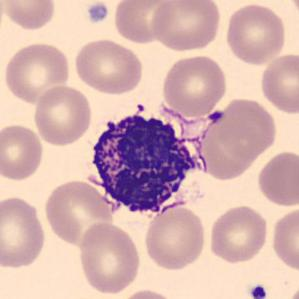Basophil: (81, 102, 210, 225)
Platelets: (86, 2, 110, 24), (248, 282, 269, 299)
RBC: (42, 177, 115, 247), (76, 220, 143, 296), (141, 203, 208, 272), (160, 52, 230, 118), (2, 40, 72, 104), (72, 36, 146, 96), (210, 95, 279, 159), (222, 1, 288, 67), (31, 83, 94, 148), (148, 0, 223, 53), (207, 203, 270, 264), (0, 194, 47, 270), (111, 0, 176, 44), (0, 122, 46, 183), (258, 51, 299, 115), (255, 148, 298, 208), (269, 205, 298, 273), (0, 0, 57, 31), (116, 287, 178, 299), (284, 0, 299, 21), (286, 285, 298, 299)
